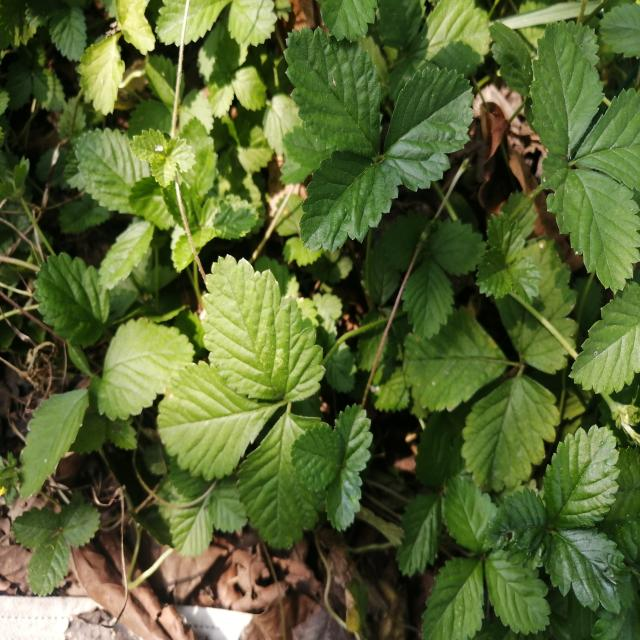Mock_strawberry: (274, 4, 448, 252)
